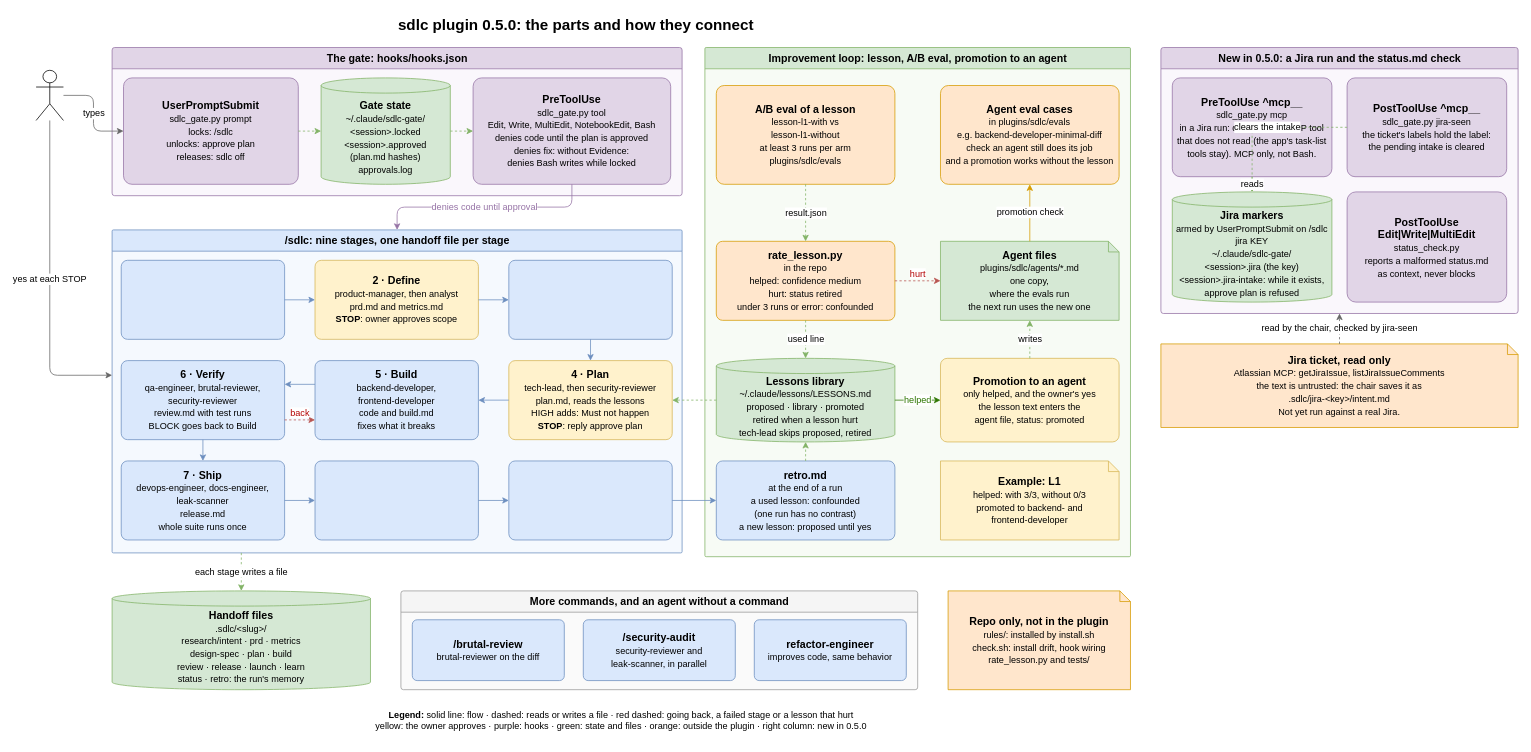
The diagram is 1531 pixels wide and 752 high, and some of its shapes have lost their labels. The shapes that lost their labels are listed below. From the top down, each one's centre as x and y in pixels, then its label:
At (49,95): "Owner".
At (202,299): "1 · Discover user-researcher research.md or intent.md".
At (590,299): "3 · Design product-designer design-spec.md skipped without a UI".
At (396,500): "8 · Launch /campaign, when installed launch.md drafts only, owner publishes".
At (590,500): "9 · Learn analyst, on the readout date learn.md moved, did not move, or unknown".
